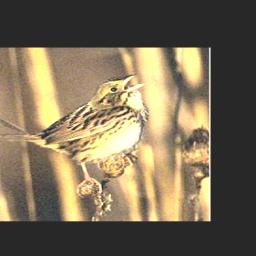Sparrow: (0, 73, 148, 196)
